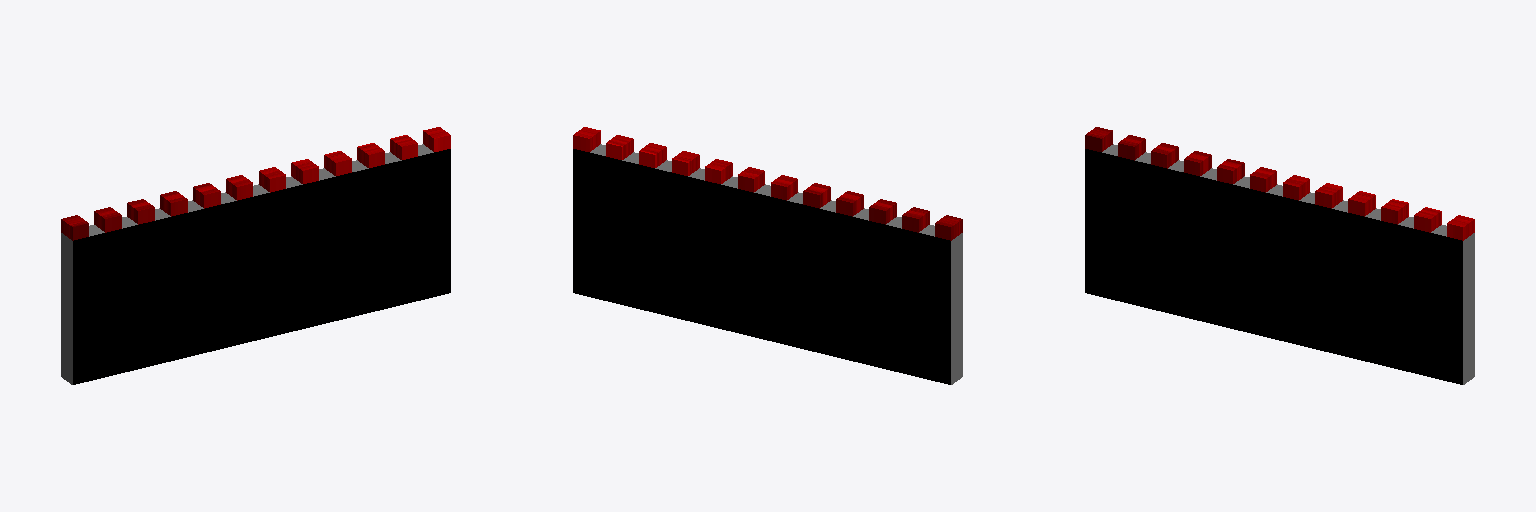
3 renders of one model, left to right at view 1: azimuth 30°, elevation 25°; view 2: azimuth 150°, elevation 25°; view 3: azimuth 330°, elevation 25°, orthographic.
Visible parts, largest first — view 1: pCube1; view 2: pCube1; view 3: pCube1.
Boxes of the visible parts, box(x1,y1,x2,y2) form: pCube1: box(61, 127, 450, 384); pCube1: box(573, 127, 962, 384); pCube1: box(1085, 127, 1474, 384).
Bounding box in the file's own units: 19.17 × 7.66 × 1.
4 materials, 3 textured.